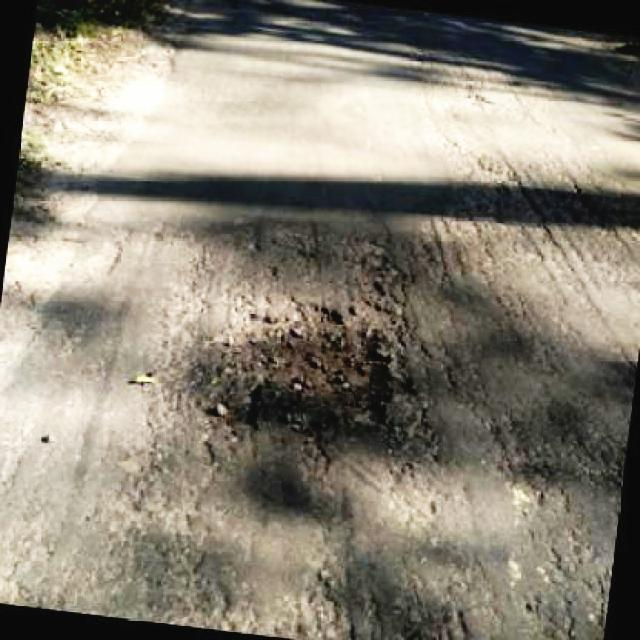pothole: (206, 292, 417, 440)
